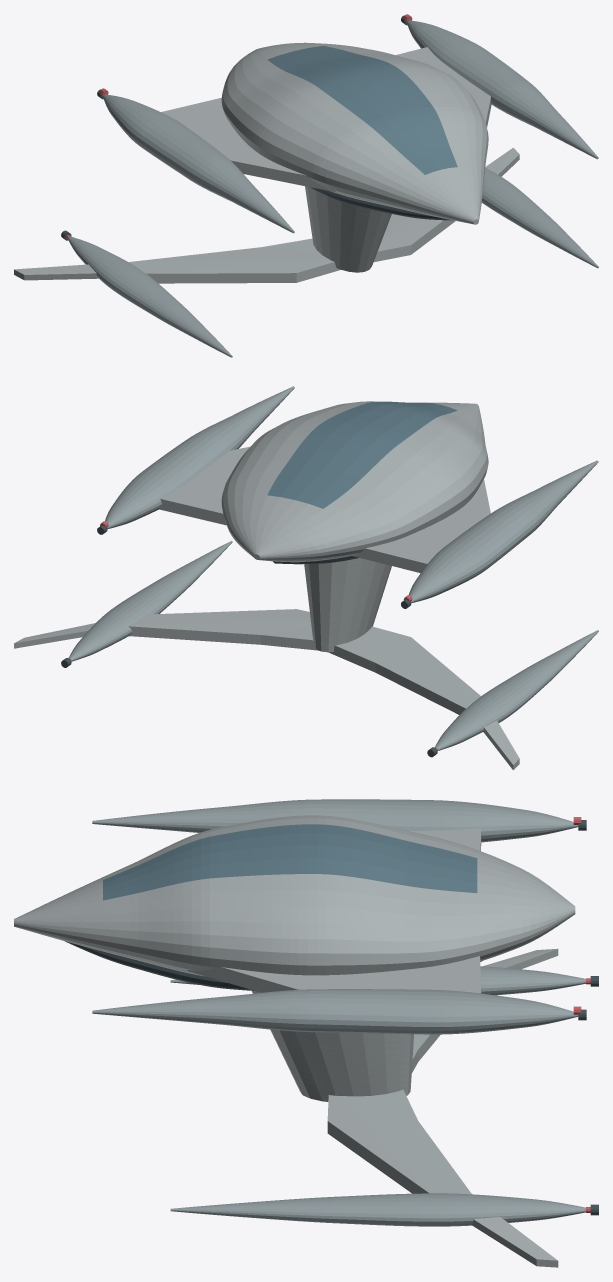
The model's file is arma_silver_off.glb.
3 renders of one model, top to bottom at view 1: azimuth 30°, elevation 25°; view 2: azimuth 150°, elevation 25°; view 3: azimuth 270°, elevation 25°, orthographic. The views are drawn at different scales.
Parts seen in each view (by area): view 1: material_0, material_3, material_1, material_2; view 2: material_0, material_3, material_1, material_2; view 3: material_0, material_3, material_1, material_2.
Part boxes in pixels (x1,y1,x2,y2): material_0: (14, 42, 519, 283); material_3: (67, 20, 598, 357); material_1: (267, 46, 457, 174); material_2: (61, 15, 453, 240); material_0: (14, 401, 519, 770); material_3: (68, 386, 598, 750); material_1: (267, 401, 457, 508); material_2: (61, 525, 437, 757); material_0: (14, 815, 575, 1267); material_3: (92, 799, 585, 1226); material_1: (103, 824, 477, 900); material_2: (65, 820, 598, 1215).
Bounding box in the file's own units: 4.8 × 1.91 × 3.81.
